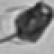not correct: (0, 0, 52, 50)
